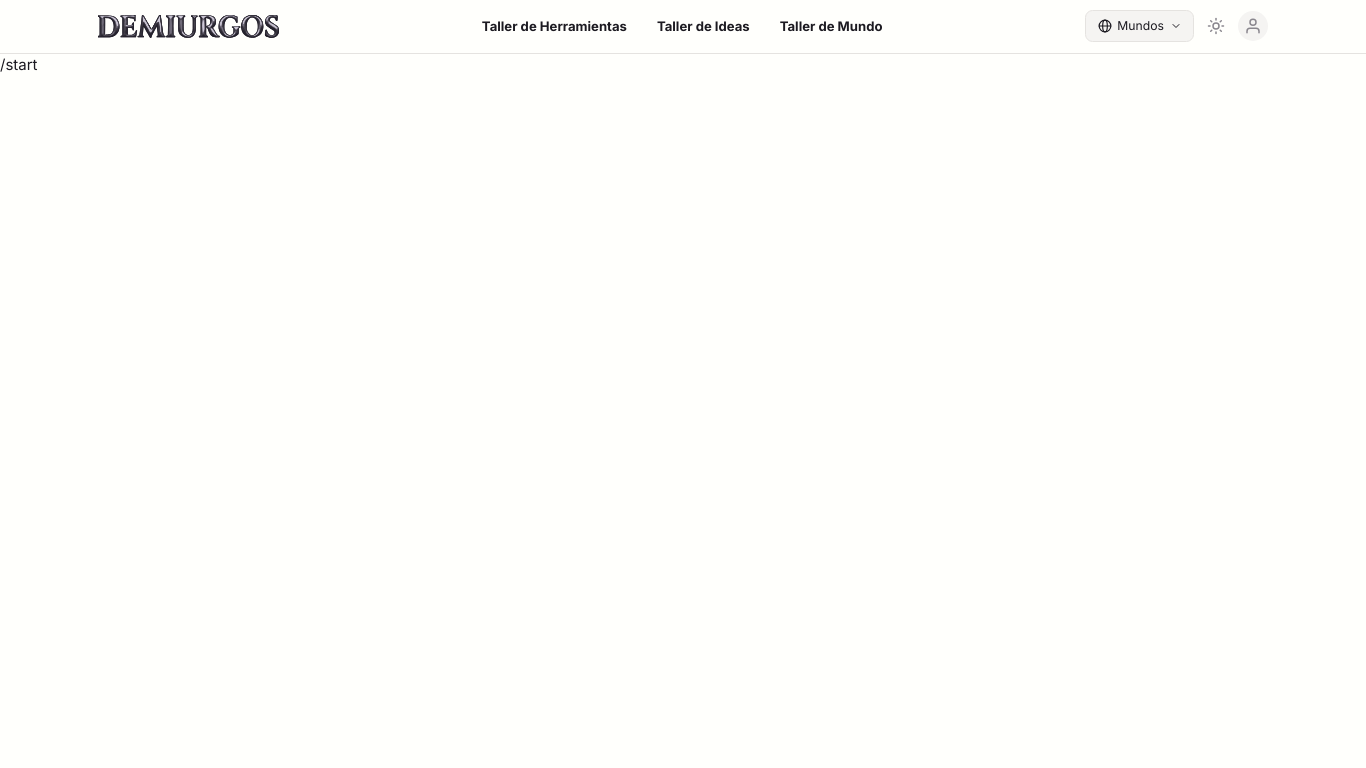
Navbar › profile dropdown links to the full profile page at /perfil
Click the button named "Perfil" at (1253, 26), box 1238,11 -> 1268,41
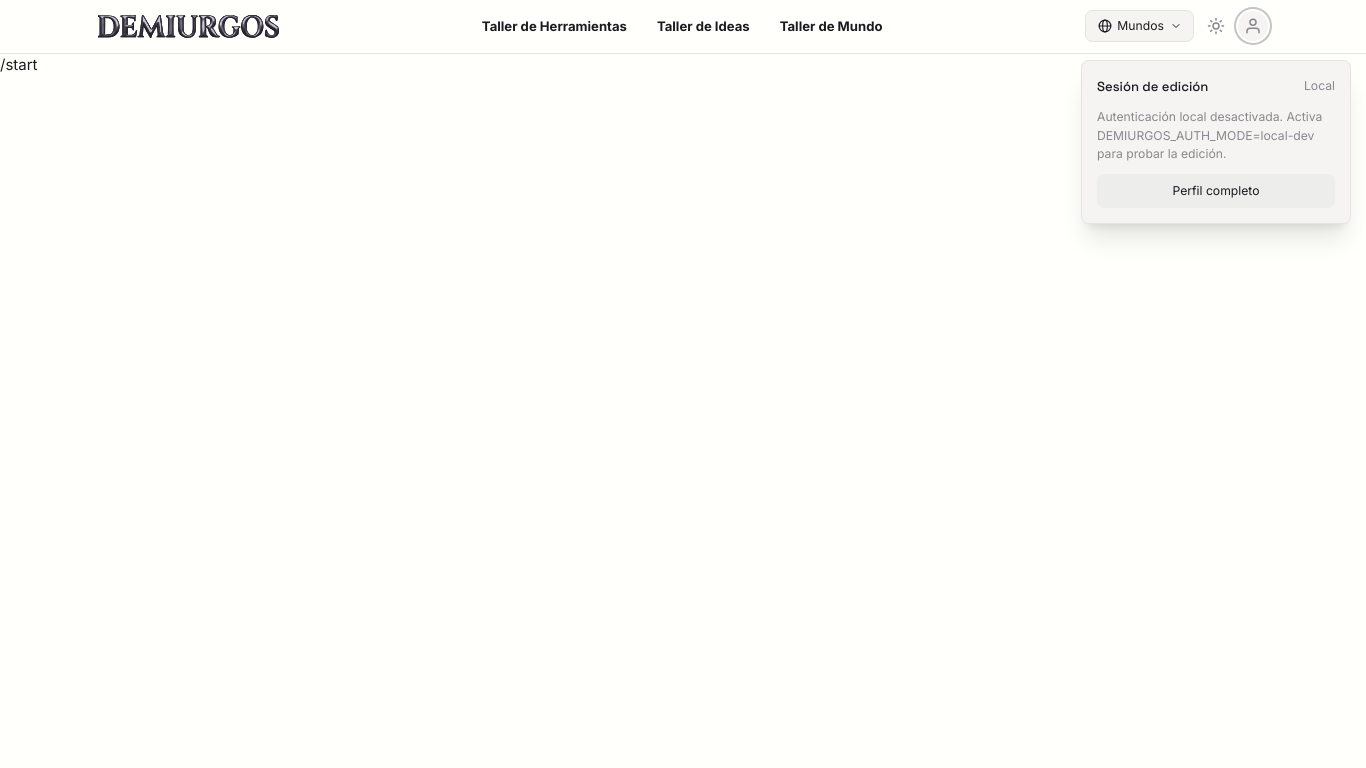
Click the button "Perfil completo" at (1216, 191), box 1097,174 -> 1335,208
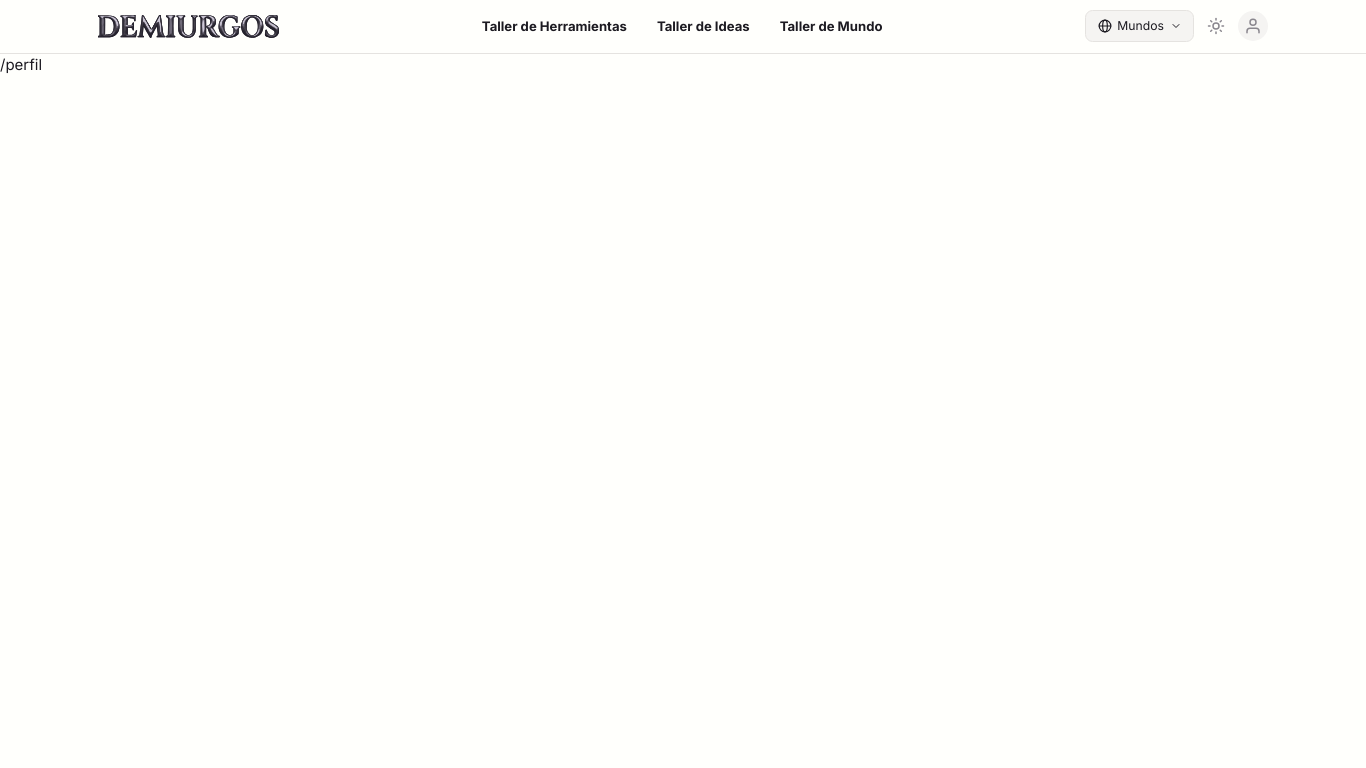
Expected: the text with test id "path" reads "/perfil", 0,54 -> 42,74
